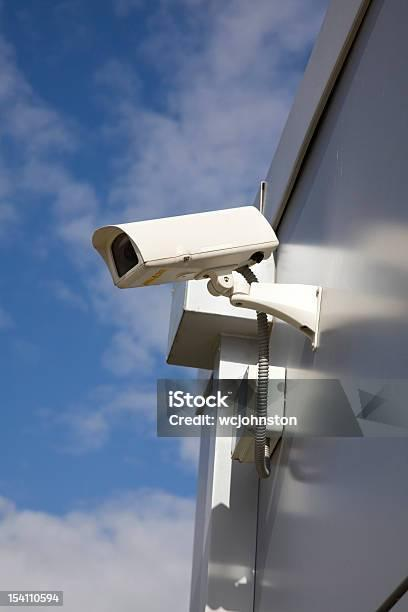------------------------------: (87, 198, 285, 294)
